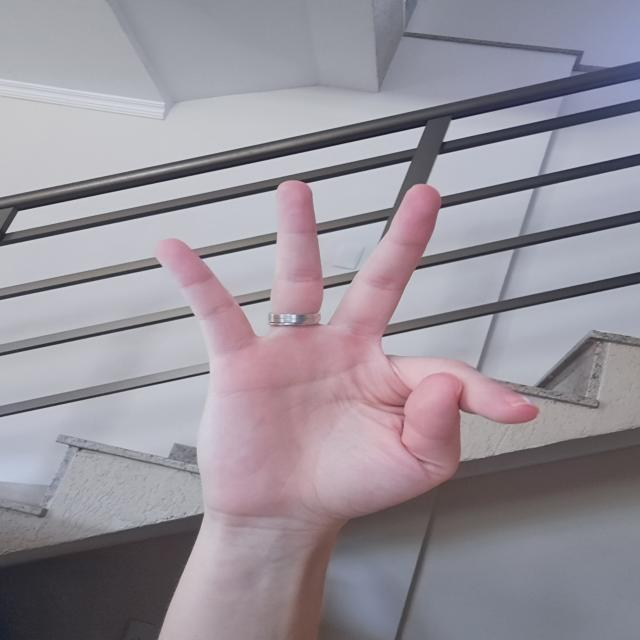T: (134, 161, 546, 543)
